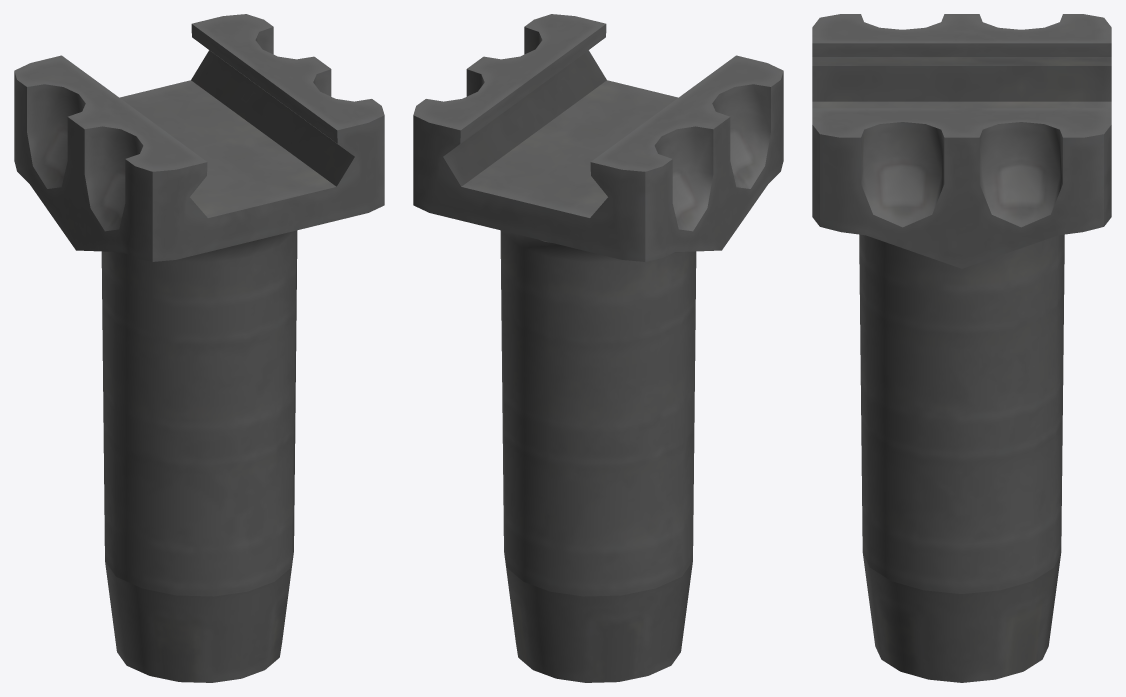
File: IG_Acc_Grip_ALL_ADS_1.fbx
3 renders of one model, left to right at view 1: azimuth 30°, elevation 25°; view 2: azimuth 150°, elevation 25°; view 3: azimuth 270°, elevation 25°, orthographic. The views are drawn at different scales.
Visible parts, largest first — view 1: Acc_Grip_ALL_ADS_1; view 2: Acc_Grip_ALL_ADS_1; view 3: Acc_Grip_ALL_ADS_1.
Part boxes in pixels (x1,y1,x2,y2): Acc_Grip_ALL_ADS_1: (14, 14, 384, 682); Acc_Grip_ALL_ADS_1: (413, 14, 783, 682); Acc_Grip_ALL_ADS_1: (812, 14, 1111, 682).
Size of the model in its own units: 0.0871 by 0.1872 by 0.0891.
